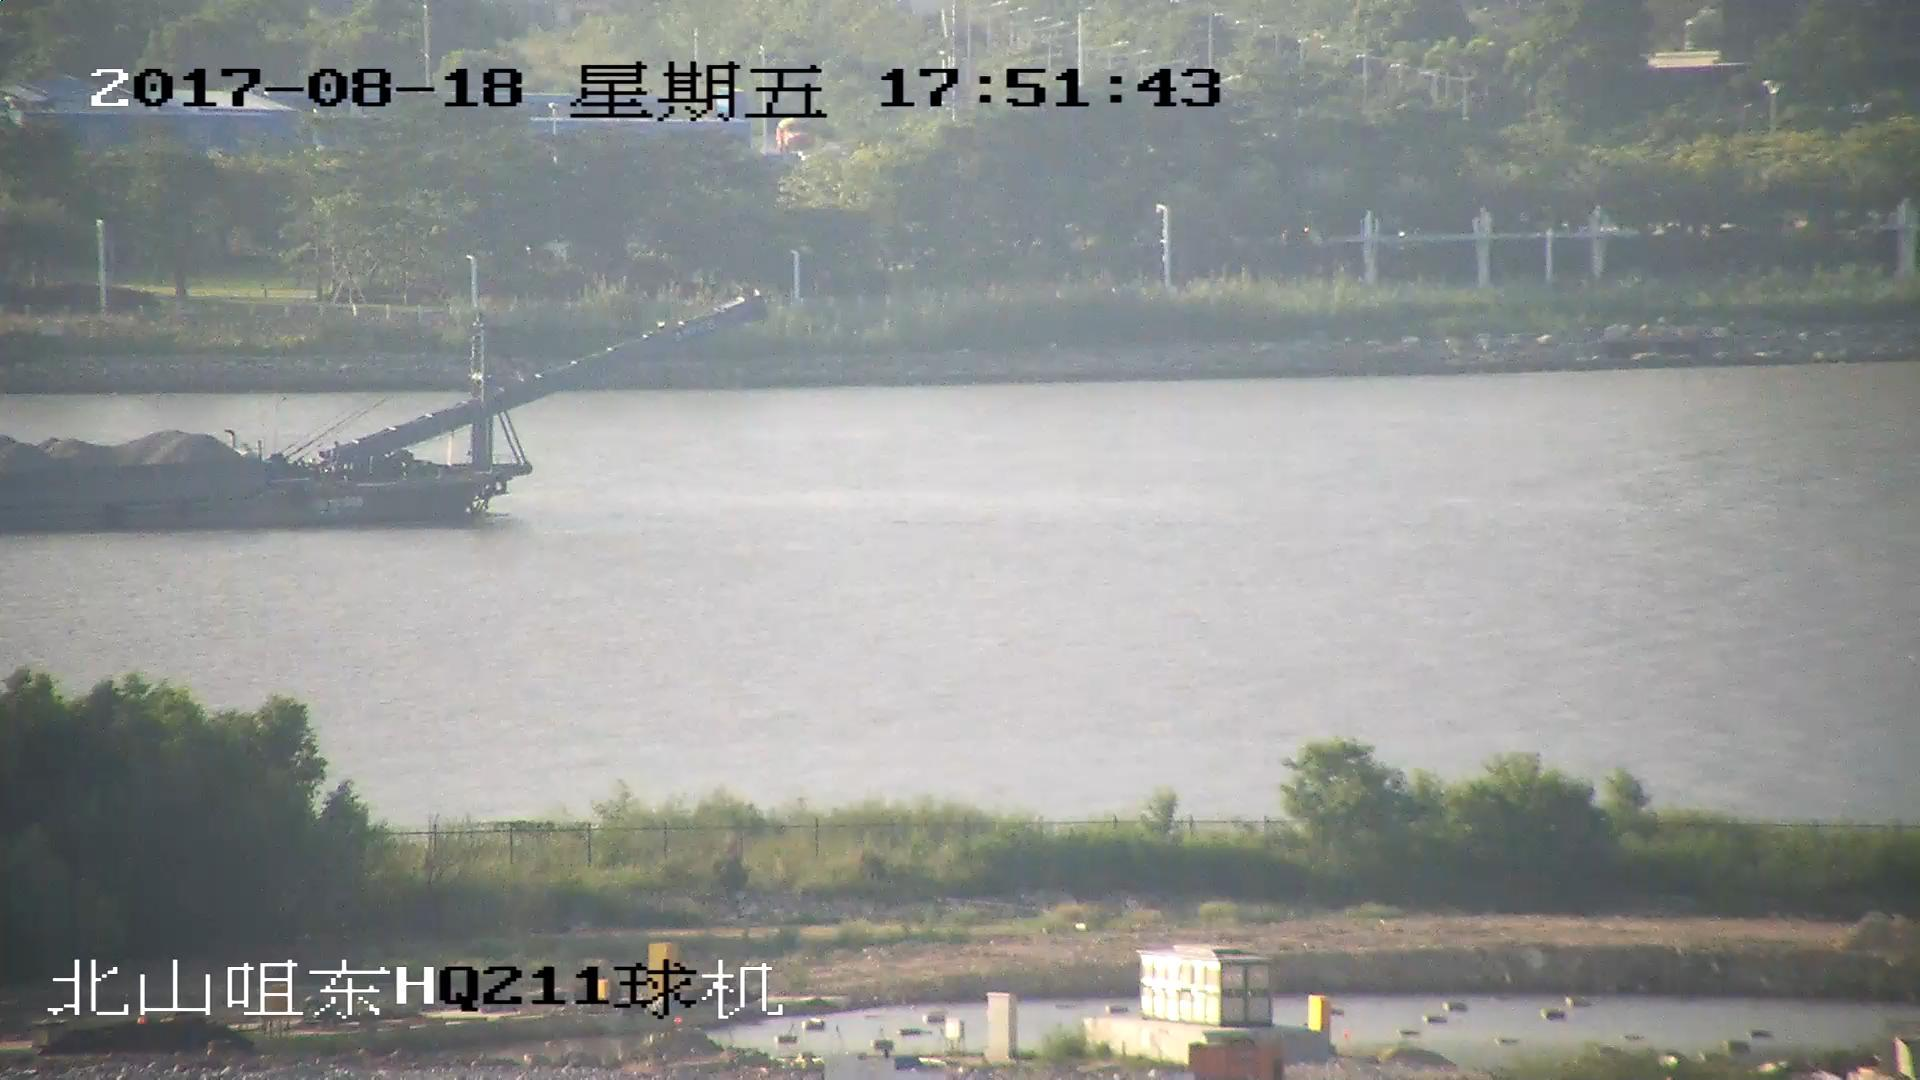Ship: (3, 295, 760, 538)
